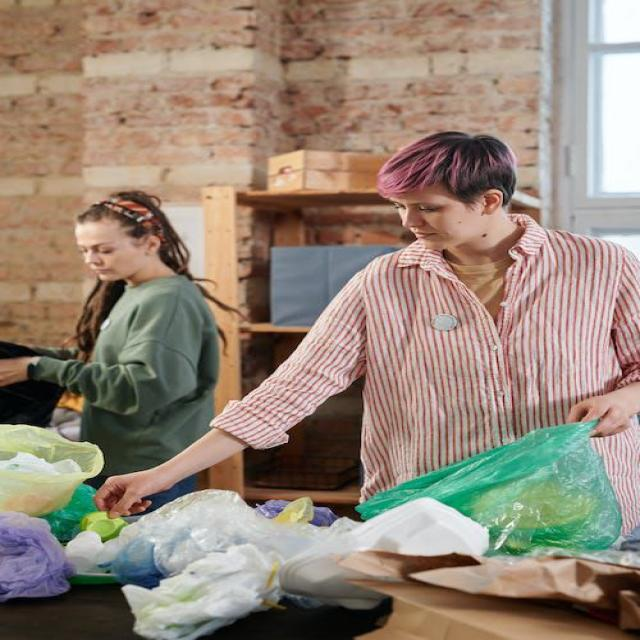paper: (418, 543, 640, 629)
plastic: (403, 439, 621, 544), (147, 495, 375, 561), (1, 480, 96, 598), (115, 559, 264, 631), (1, 416, 44, 474)
